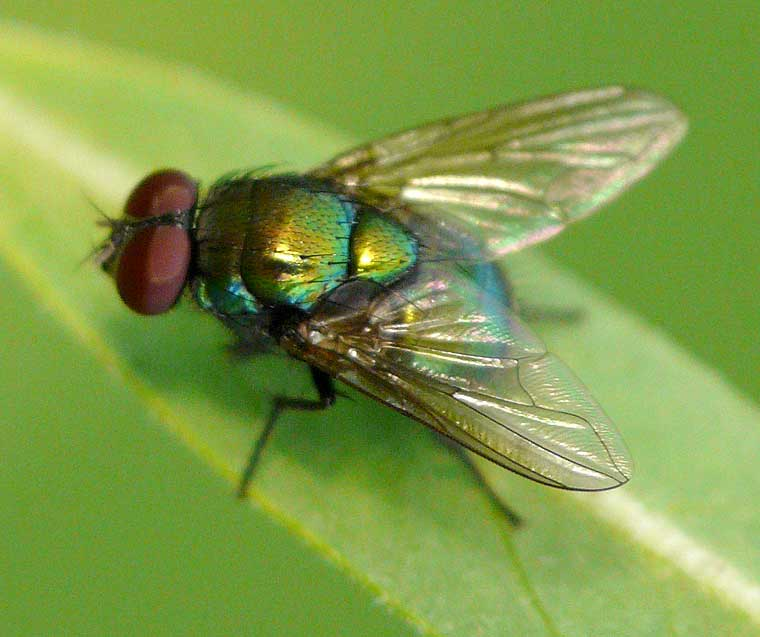green bottles fly: (60, 12, 685, 579)
